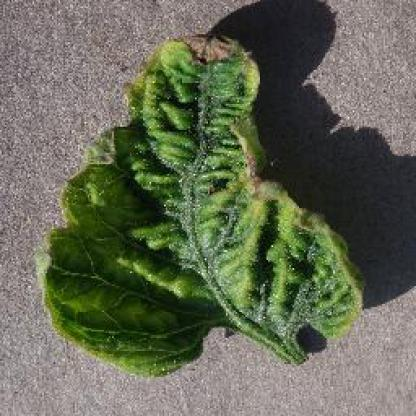bad leaf: (13, 7, 386, 385)
